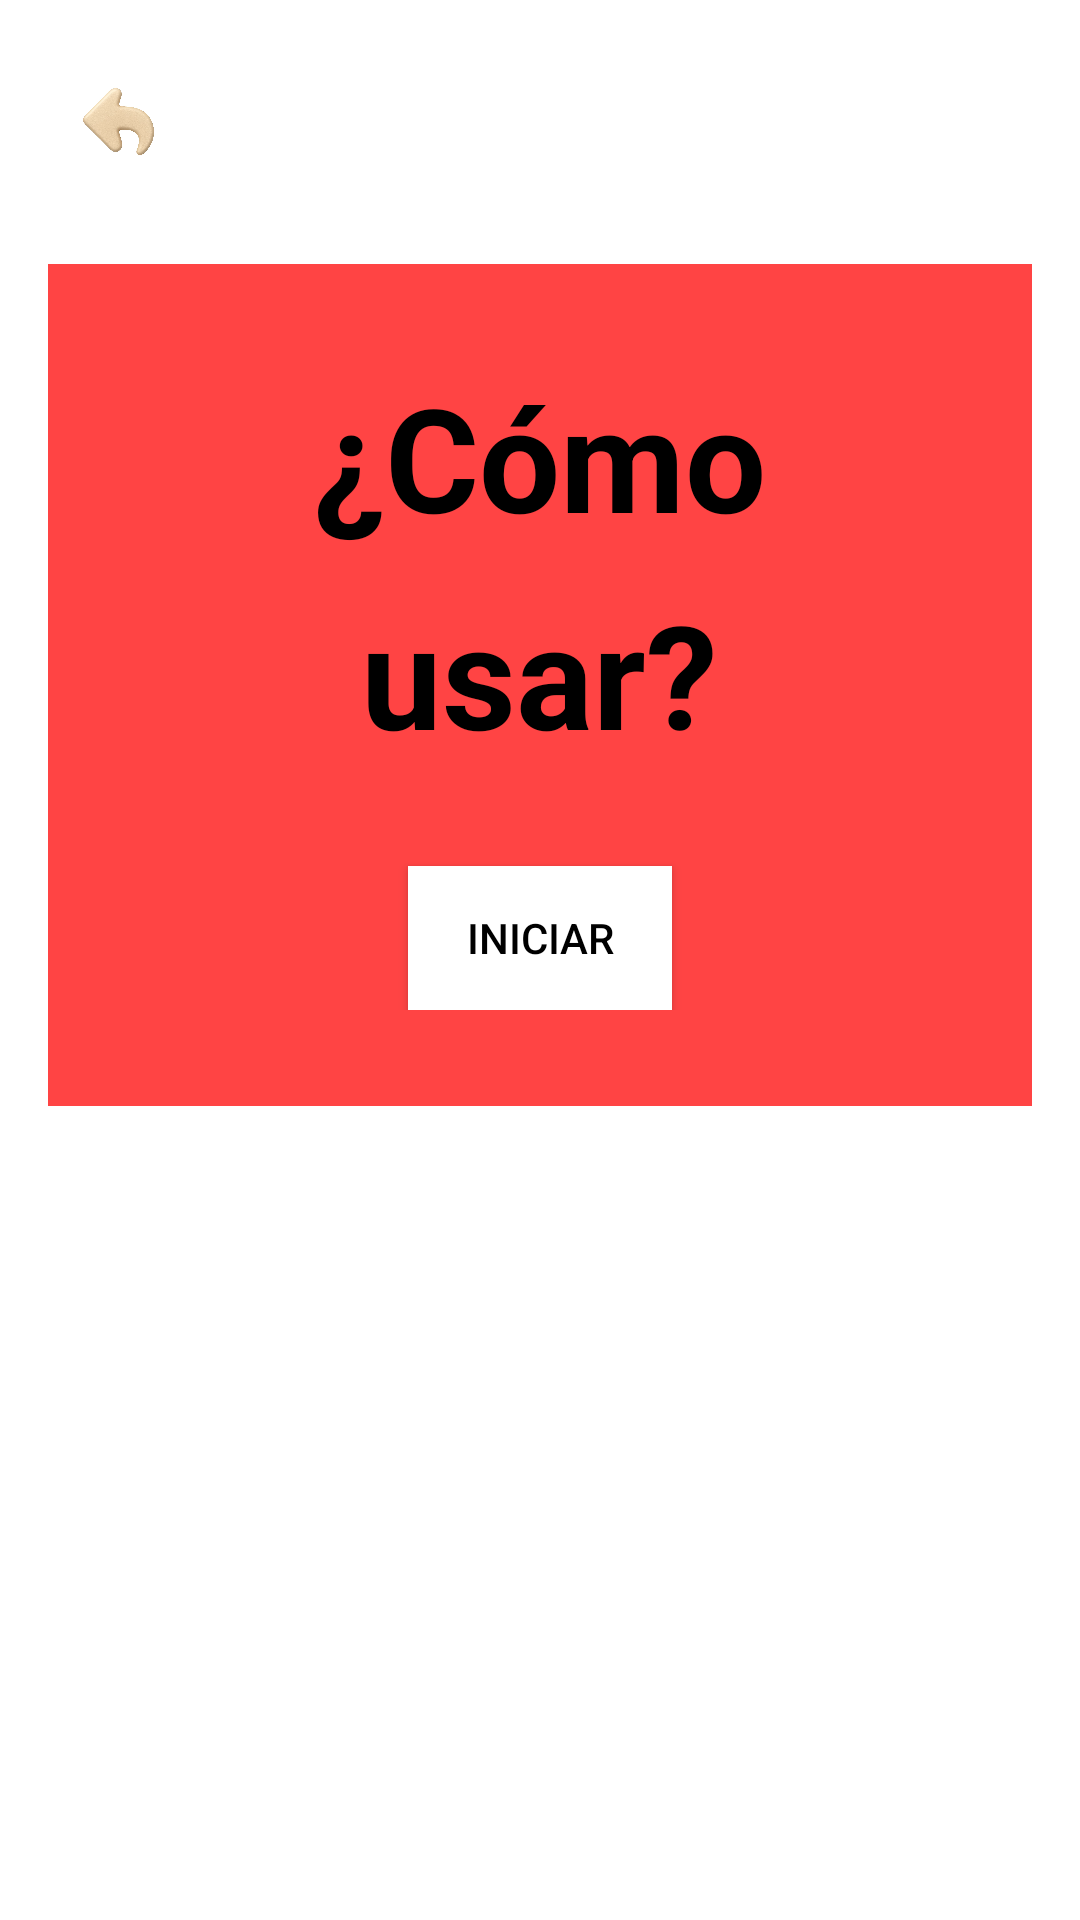

Where to tap for icons on this 1080 × 1920 app screen, as (x=x, y=y):
Volver: (x=118, y=121)
